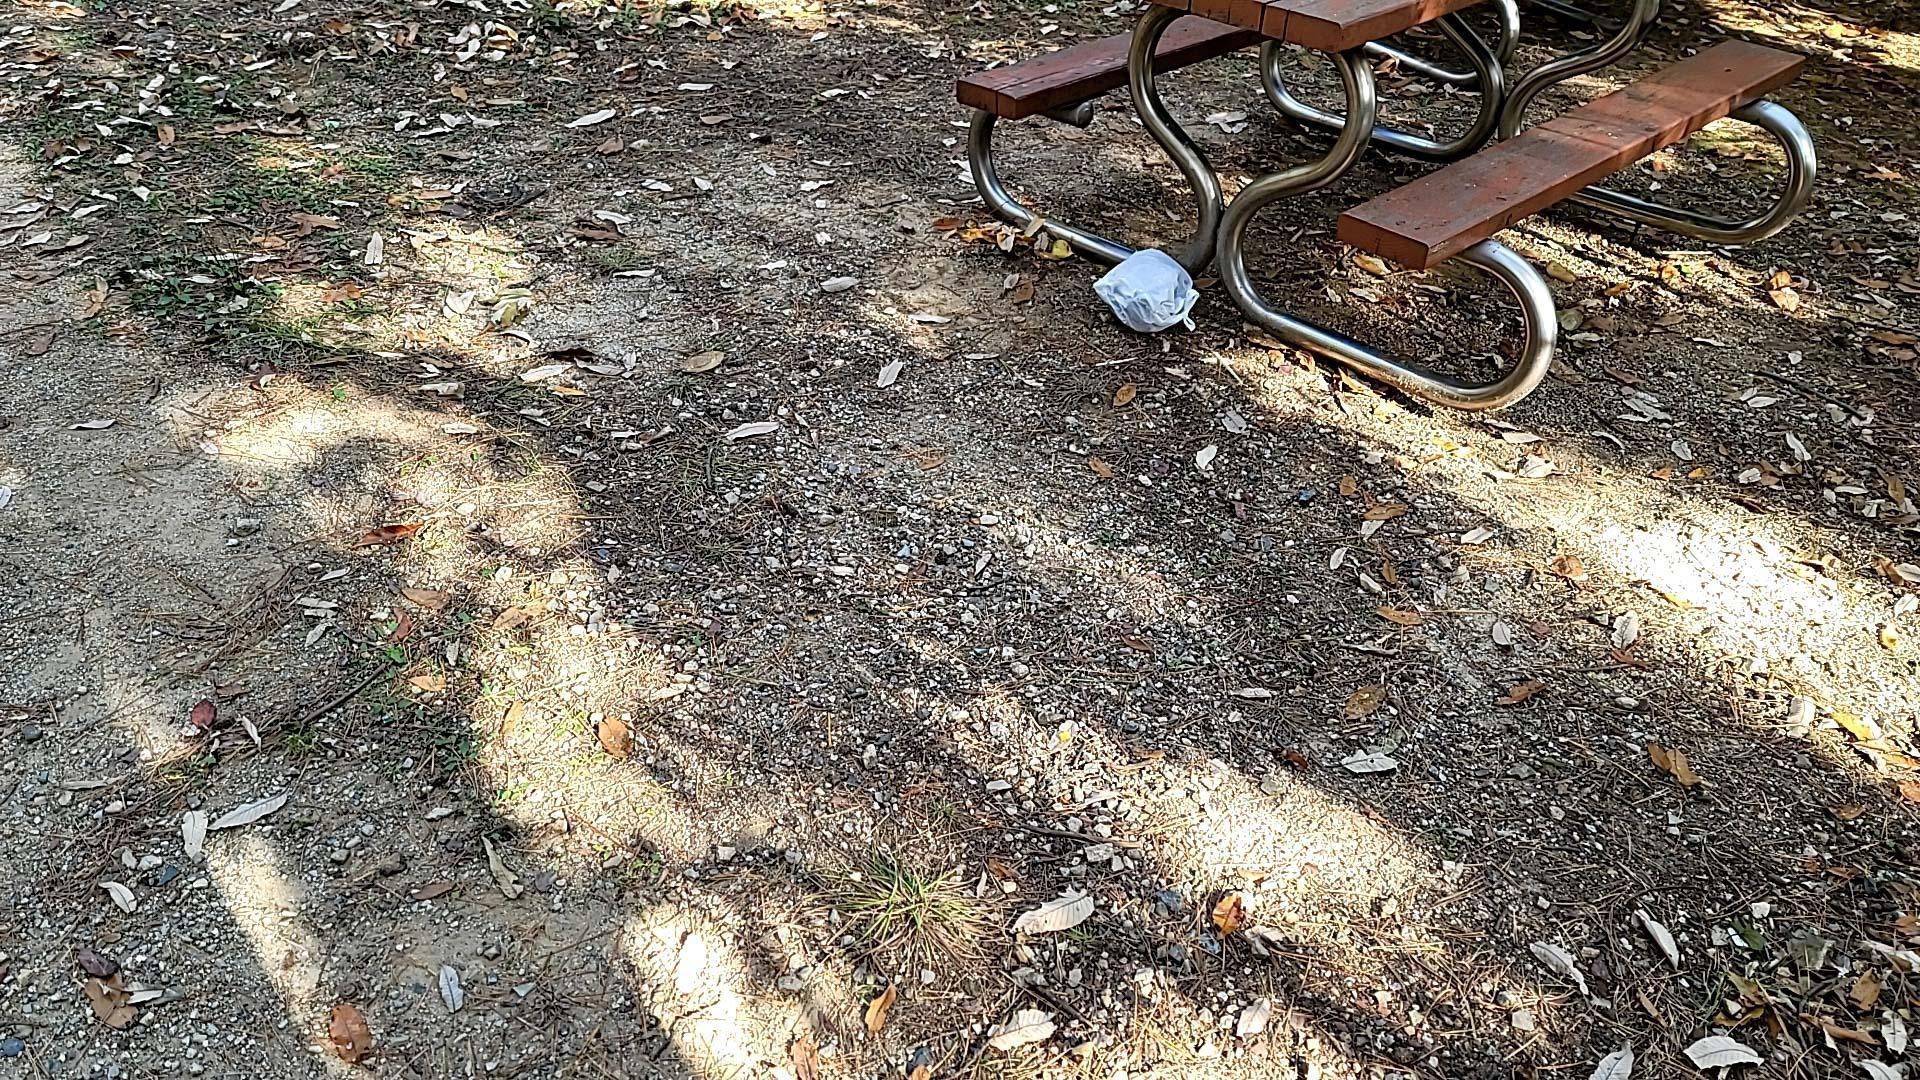white_bag: (1079, 240, 1205, 342)
